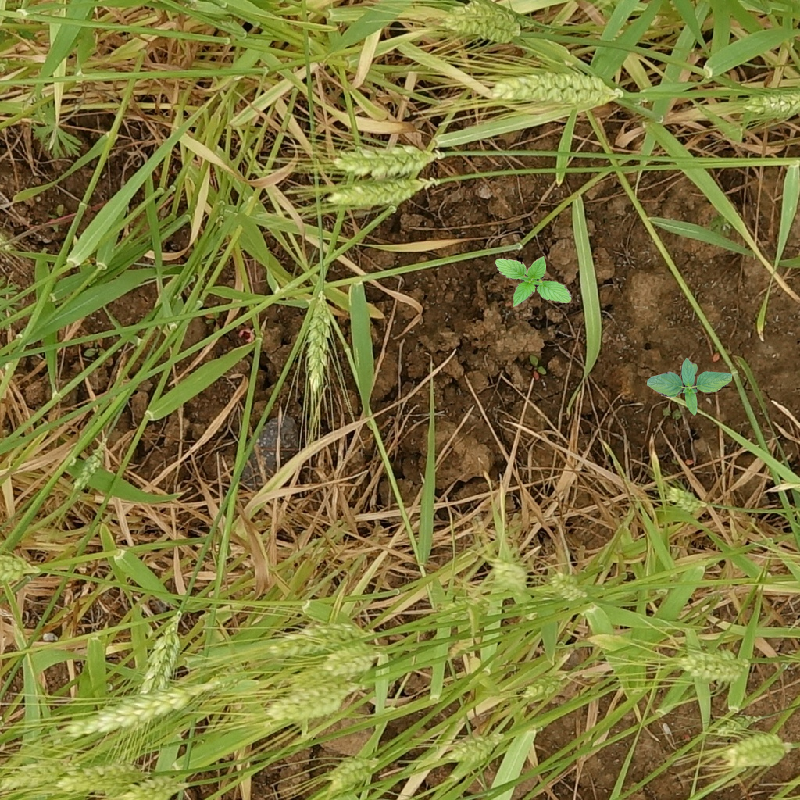spikelet: (59, 670, 243, 741), (245, 612, 374, 664), (485, 64, 621, 111), (259, 669, 369, 726), (33, 756, 150, 799), (295, 287, 339, 401), (134, 604, 188, 694), (328, 138, 443, 179), (322, 171, 435, 210), (436, 1, 528, 43), (1, 751, 76, 797), (719, 727, 794, 771), (541, 561, 602, 614), (675, 643, 754, 683), (315, 637, 389, 678), (443, 723, 513, 766), (319, 749, 382, 795), (100, 768, 190, 799), (70, 434, 111, 490), (517, 664, 573, 704), (741, 83, 800, 119), (488, 552, 529, 600), (661, 479, 709, 517), (1, 538, 37, 587), (705, 708, 761, 737)
weed: (1, 97, 84, 162), (647, 358, 732, 416), (495, 256, 572, 307)
